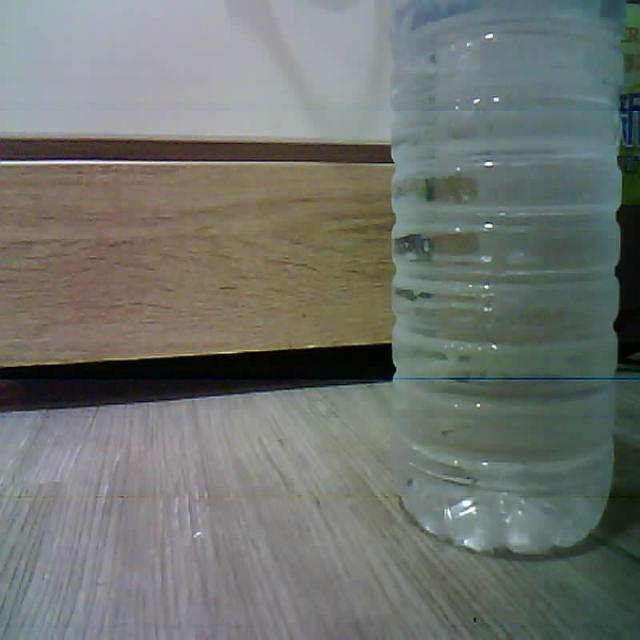bottle: (391, 0, 625, 553)
